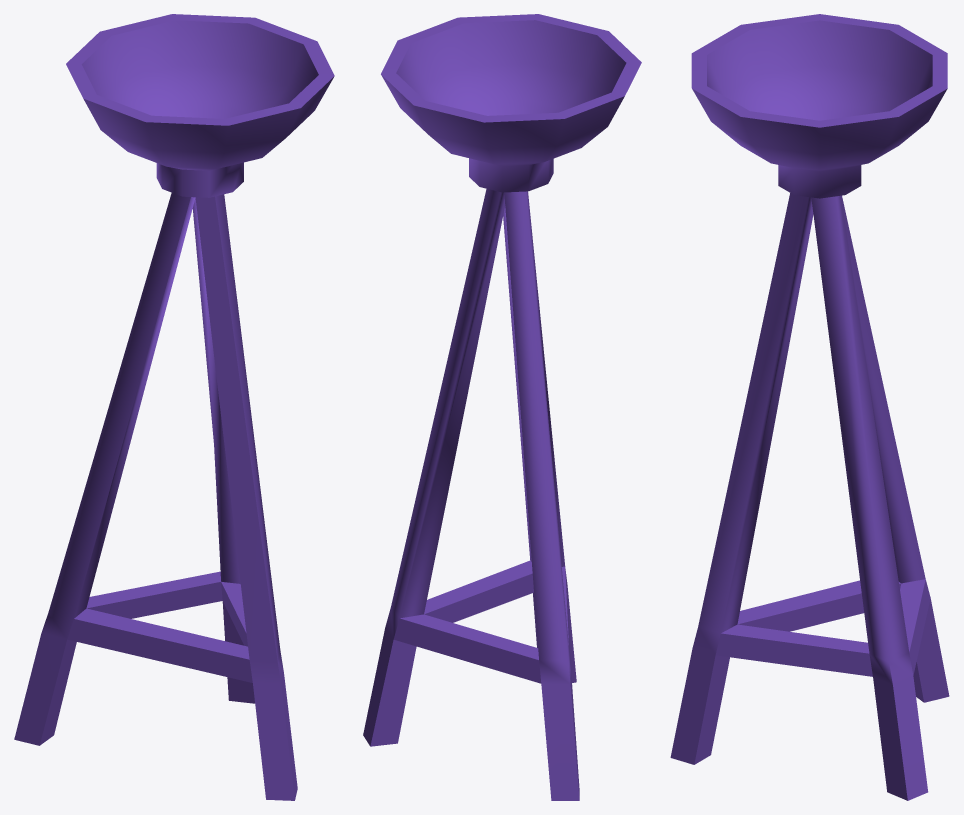
The model's file is Lamp_2.fbx.
3 views of the same model, side by side, from view 1: azimuth 30°, elevation 25°; view 2: azimuth 150°, elevation 25°; view 3: azimuth 270°, elevation 25° (orthographic). The views are drawn at different scales.
Parts seen in each view (by area): view 1: Lamp_2; view 2: Lamp_2; view 3: Lamp_2.
Part boxes in pixels (left/top/right/bottom): Lamp_2: left=14, top=14, right=334, bottom=800; Lamp_2: left=363, top=14, right=641, bottom=800; Lamp_2: left=670, top=14, right=949, bottom=800.
Size of the model in its own units: 66.62 by 177 by 65.94.
